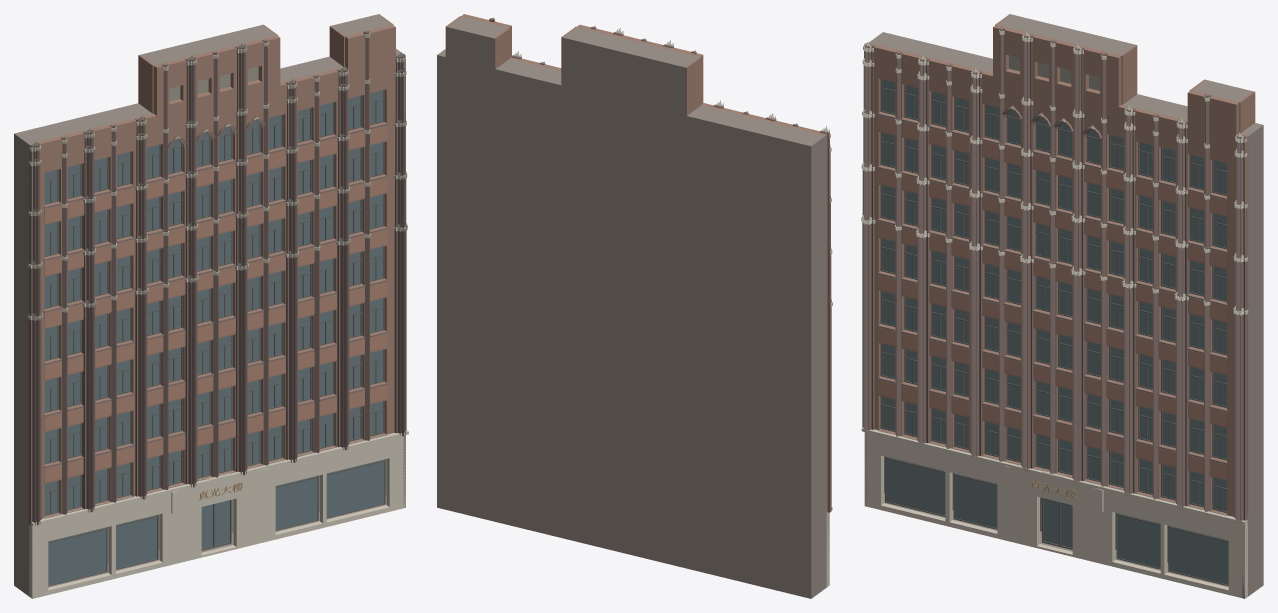
File: huangpu-china-baptist-publication-building-lod.glb
3 renders of one model, left to right at view 1: azimuth 30°, elevation 25°; view 2: azimuth 150°, elevation 25°; view 3: azimuth 330°, elevation 25°, orthographic.
Parts seen in each view (by area): view 1: 真光大楼（圆明园路东立面）; view 2: 真光大楼（圆明园路东立面）; view 3: 真光大楼（圆明园路东立面）.
Boxes of the visible parts, x1,y1,x2,y2 form: 真光大楼（圆明园路东立面）: (14, 14, 408, 598); 真光大楼（圆明园路东立面）: (437, 14, 832, 598); 真光大楼（圆明园路东立面）: (861, 14, 1263, 598).
Size of the model in its own units: 23.4 by 29.91 by 2.32.
